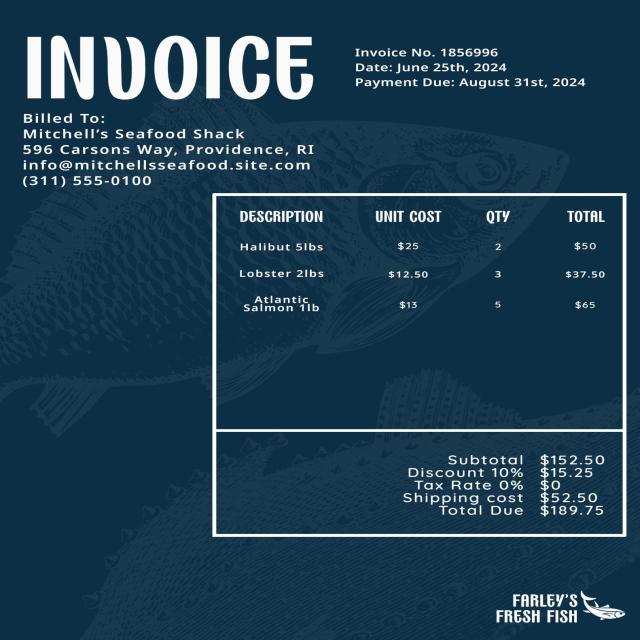paragraph: (12, 22, 325, 107), (18, 111, 323, 188), (396, 441, 613, 530), (346, 41, 596, 98), (469, 582, 634, 634)
table: (208, 192, 630, 417)
